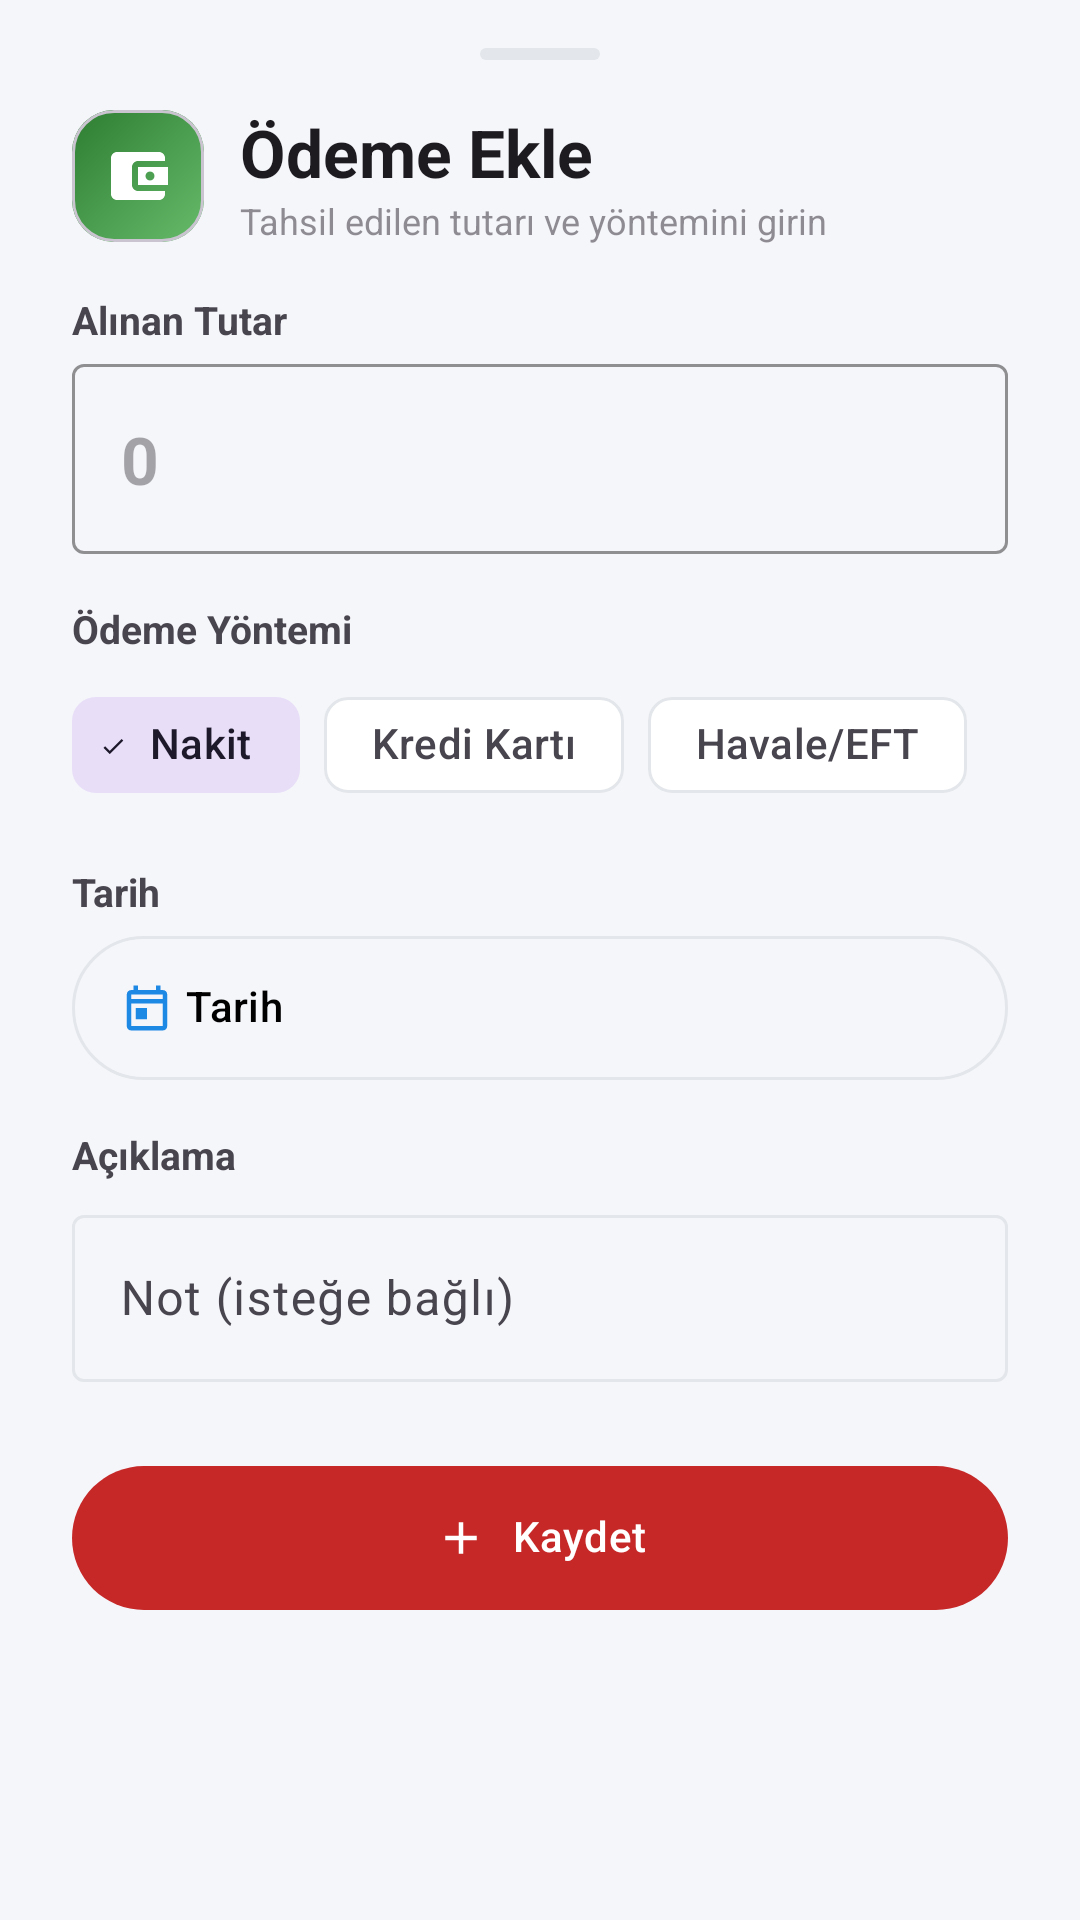

Point at icon controls on the screen. Image size 1080px x 1920px, points as [x,y].
wallet: [139,176]
